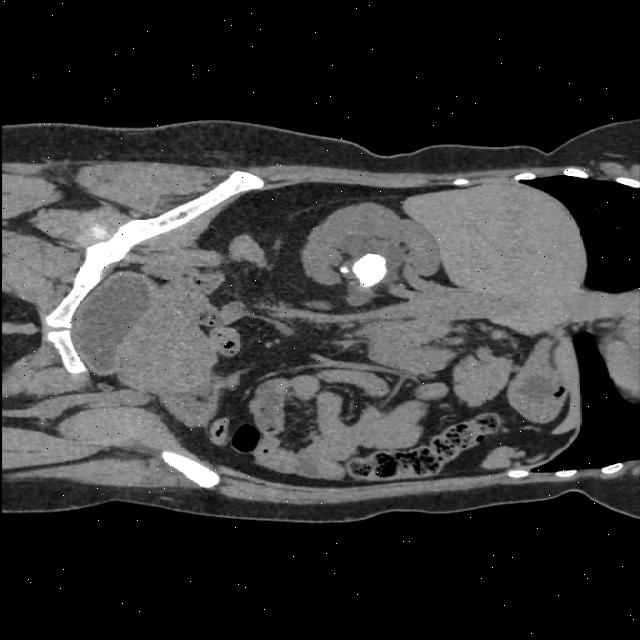kidneystone: (353, 254, 385, 286), (340, 266, 349, 272)
